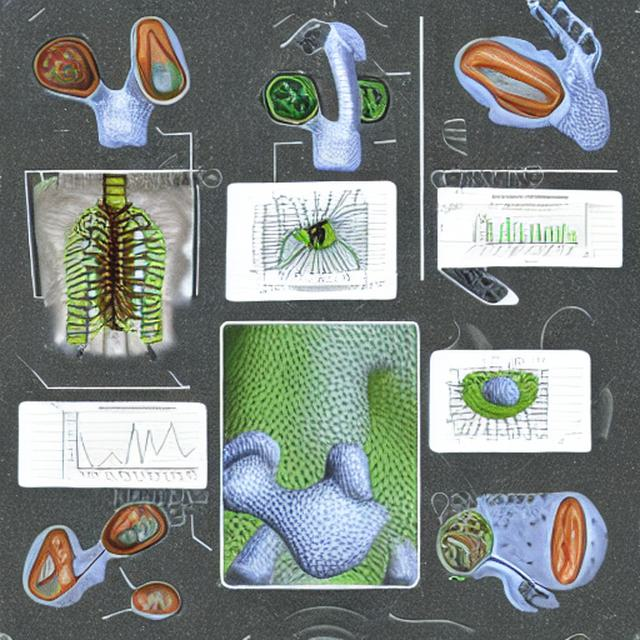Graph: (60, 404, 200, 485), (475, 201, 582, 264)
